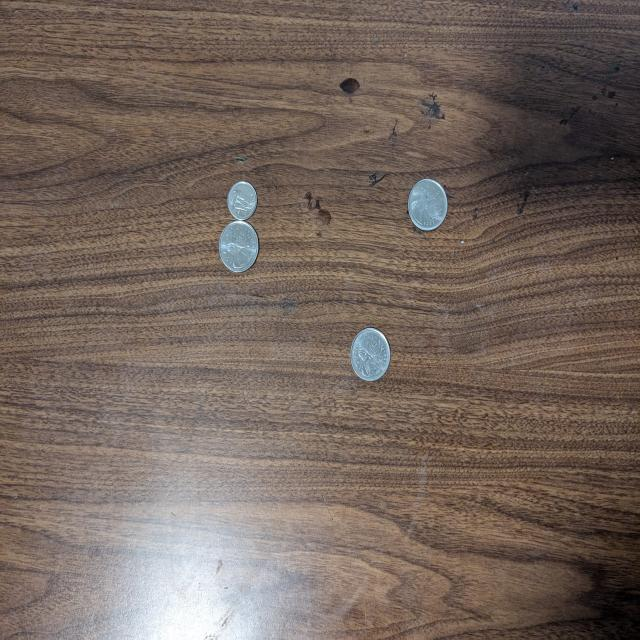dime: (229, 182, 257, 222)
quarter: (218, 221, 260, 274), (350, 329, 391, 383), (407, 178, 449, 230)
